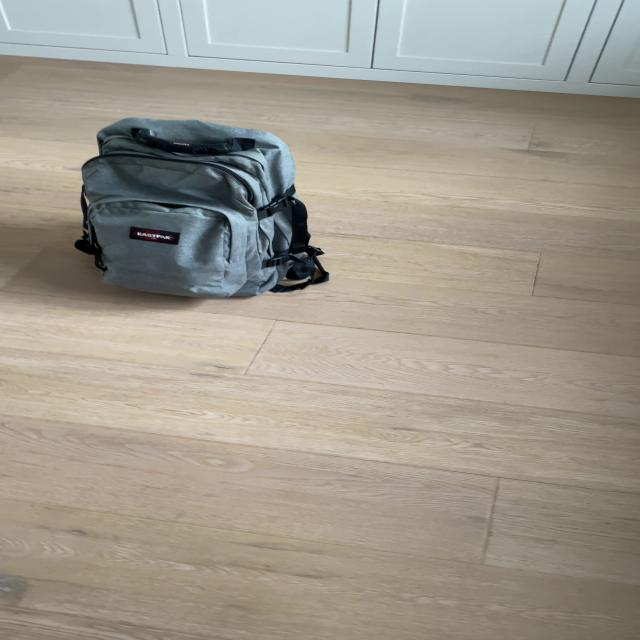backpack: (64, 108, 332, 304)
